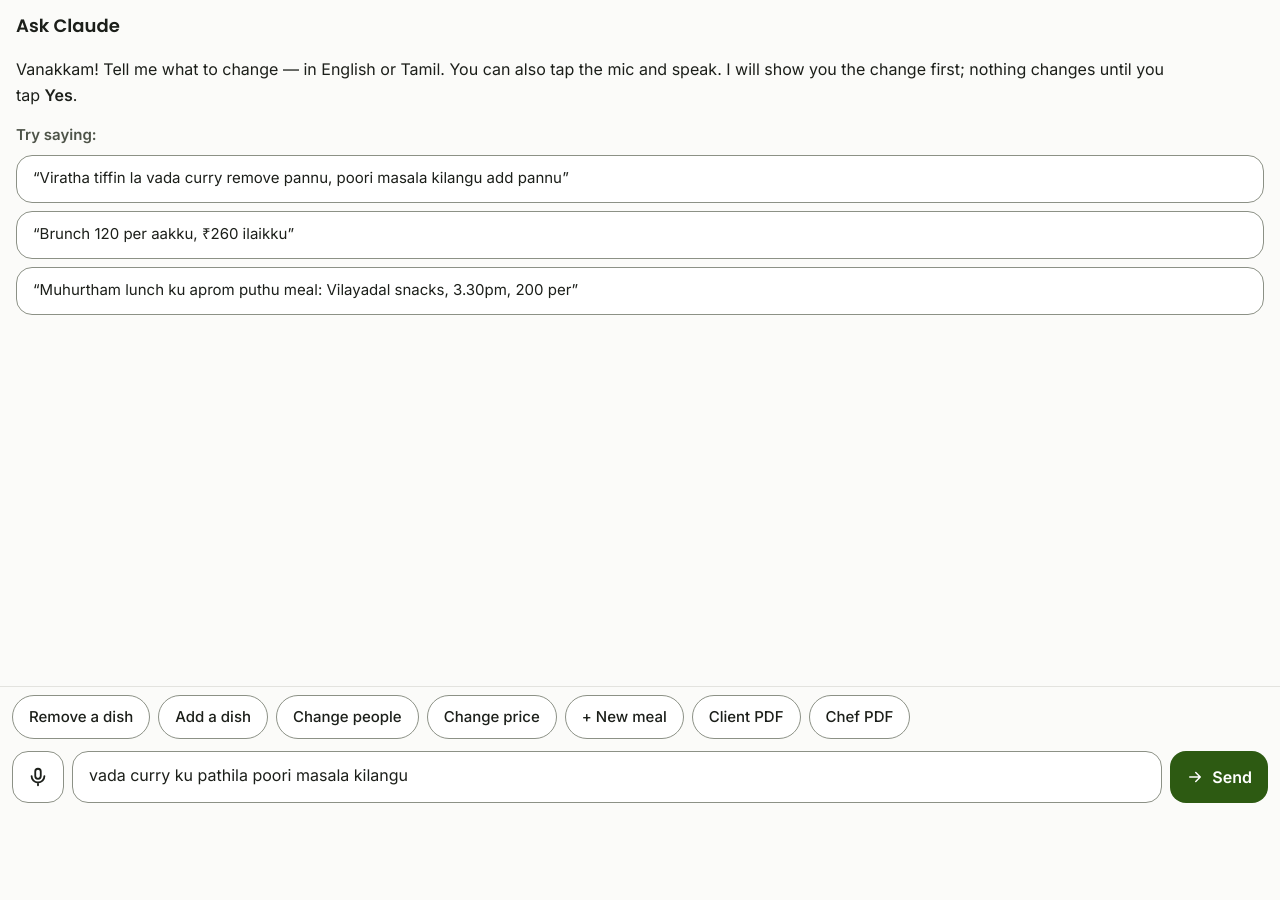
ChatScreen › preview card shows Removed / Added and "Yes, do it" applies it
Check: the text box named "Message Claude" holds "vada curry ku pathila poori masala kilangu", box [72, 751, 1162, 803]
Click the button "Send".
click(1219, 777)  # box [1170, 751, 1268, 803]
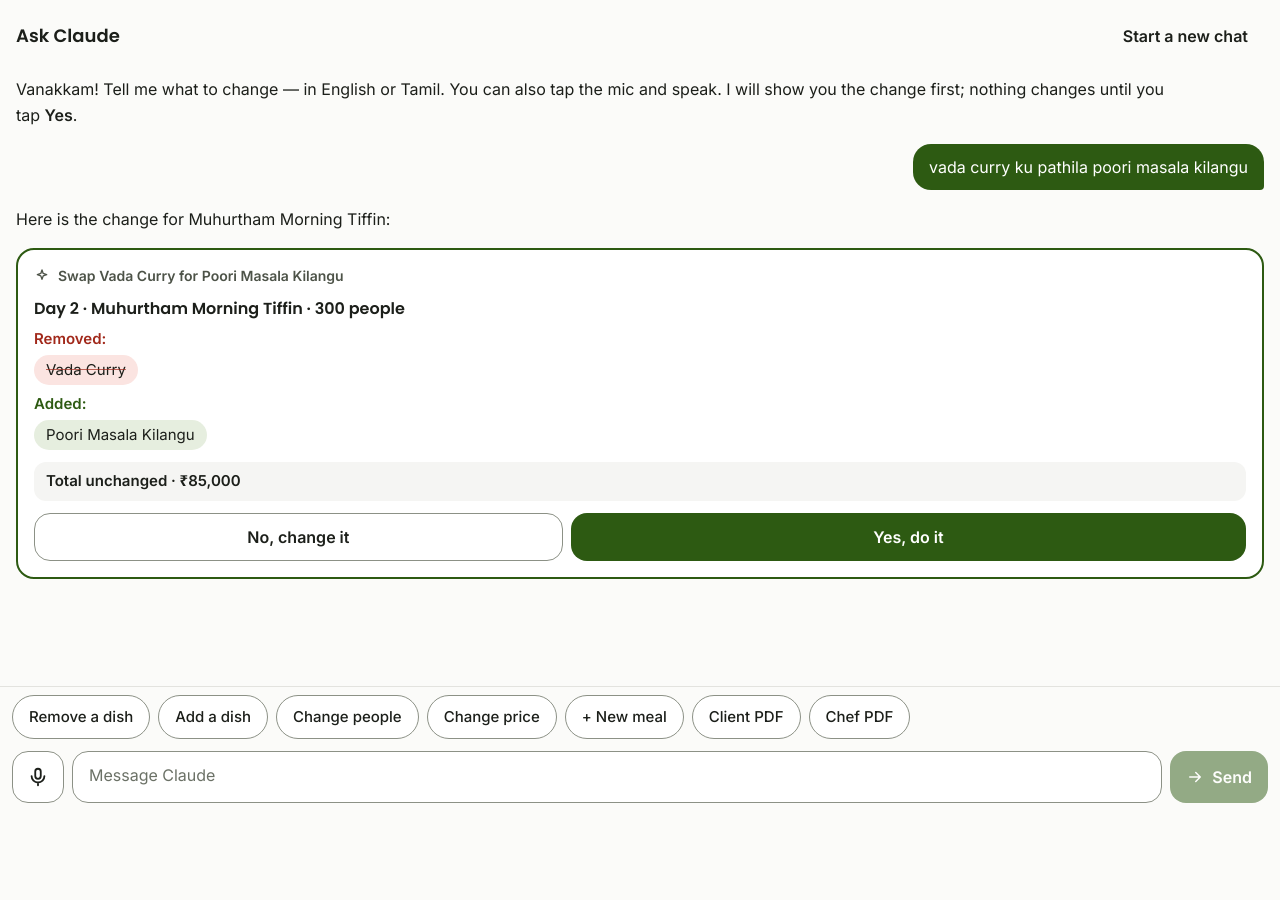
Check: the button "Yes, do it" is shown
Check: the text "Removed:" is shown, box [34, 329, 106, 348]
Check: the text "Added:" is shown, box [34, 394, 86, 413]
Click the button "Yes, do it".
click(908, 536)  # box [571, 512, 1246, 560]
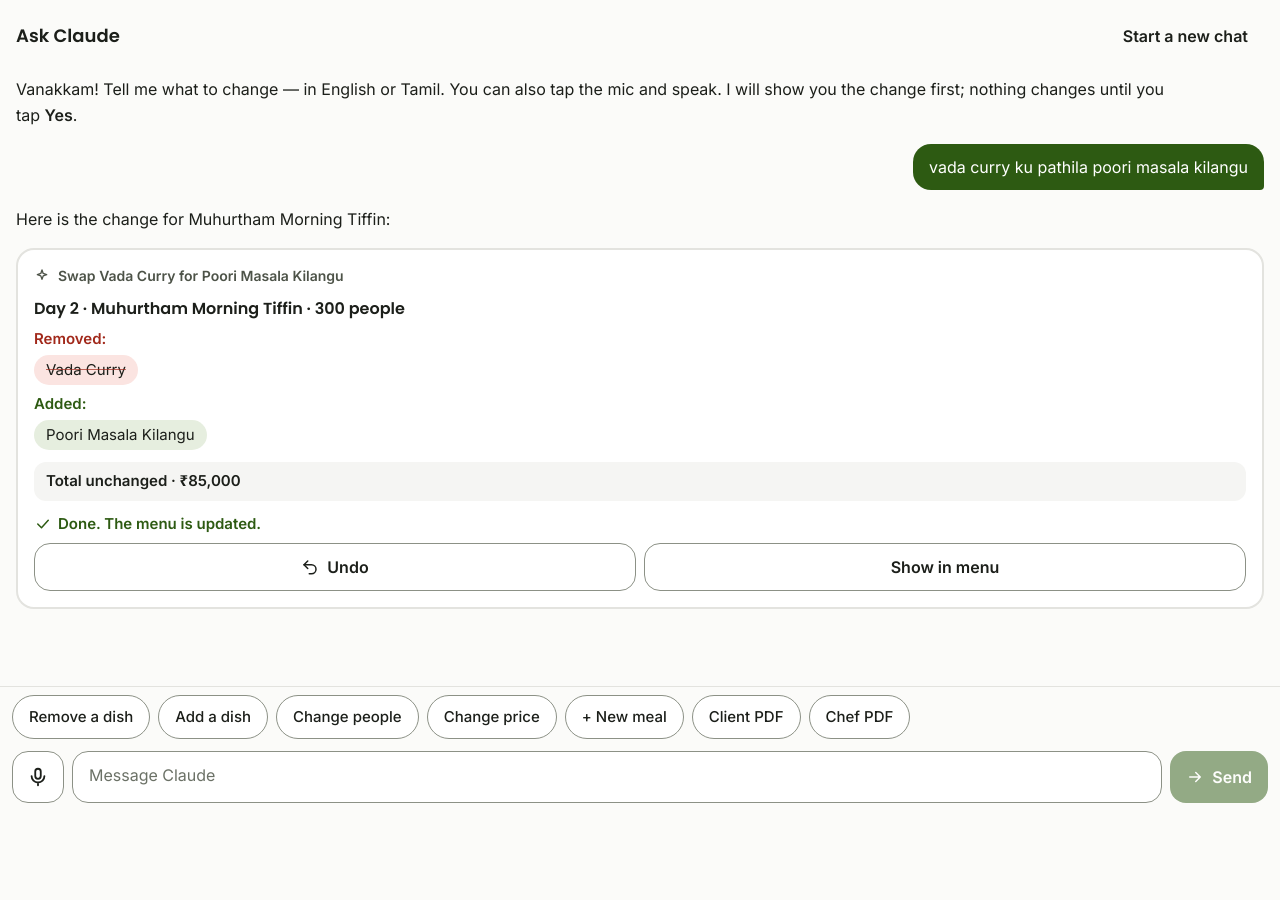
Check: the button "Undo" is shown, box [34, 543, 636, 591]
